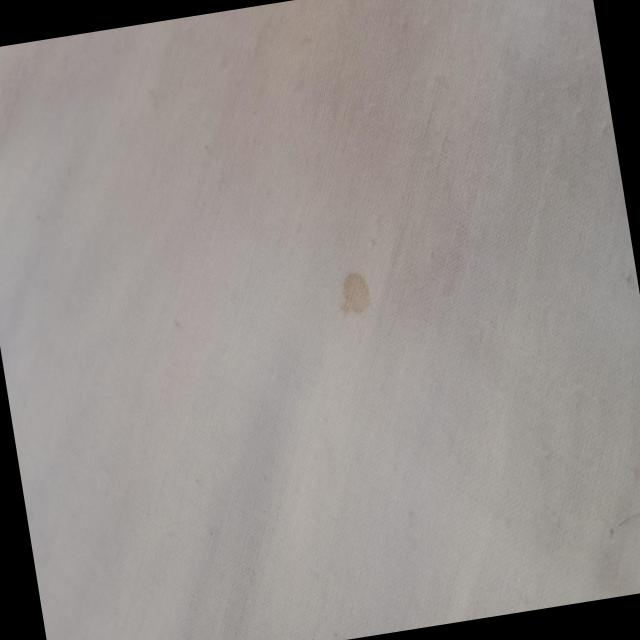stain: (326, 264, 387, 324)
